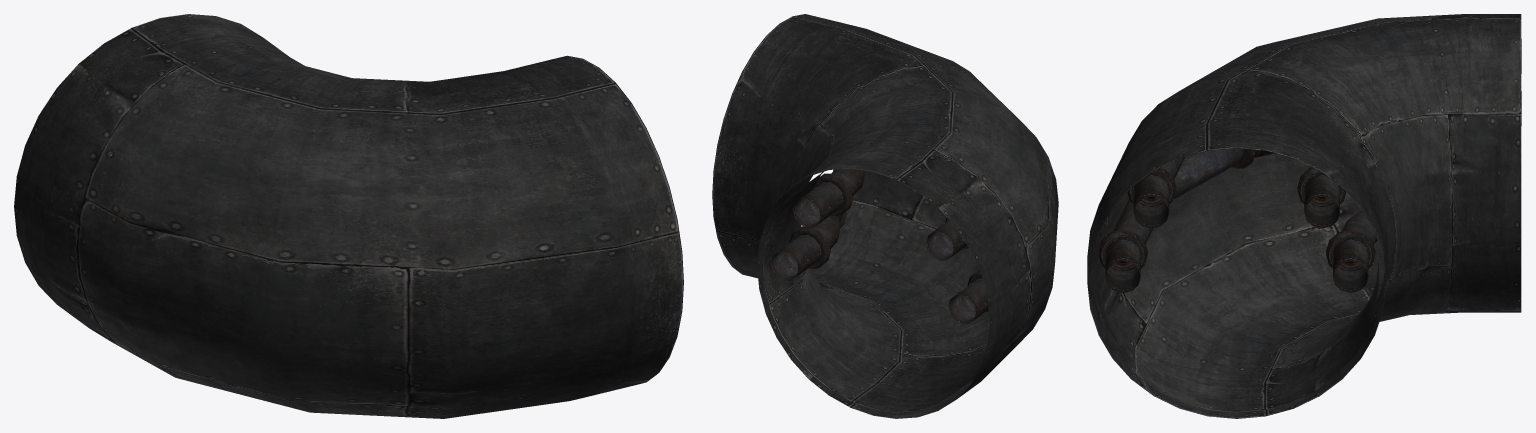
Rendered from engineroom_largepipe_corner.dae.
3 renders of one model, left to right at view 1: azimuth 30°, elevation 25°; view 2: azimuth 150°, elevation 25°; view 3: azimuth 270°, elevation 25°, orthographic. The views are drawn at different scales.
Parts seen in each view (by area): view 1: pipe_corner_sheets; view 2: pipe_corner_sheets, pipe_corner_pipes; view 3: pipe_corner_sheets, pipe_corner_pipes.
Boxes of the visible parts, left/top/right/bottom form: pipe_corner_sheets: left=14, top=14, right=683, bottom=418; pipe_corner_sheets: left=712, top=14, right=1058, bottom=418; pipe_corner_pipes: left=771, top=168, right=988, bottom=324; pipe_corner_sheets: left=1087, top=14, right=1521, bottom=418; pipe_corner_pipes: left=1098, top=39, right=1521, bottom=293.
Bounding box in the file's own units: 457 × 315 × 458.
